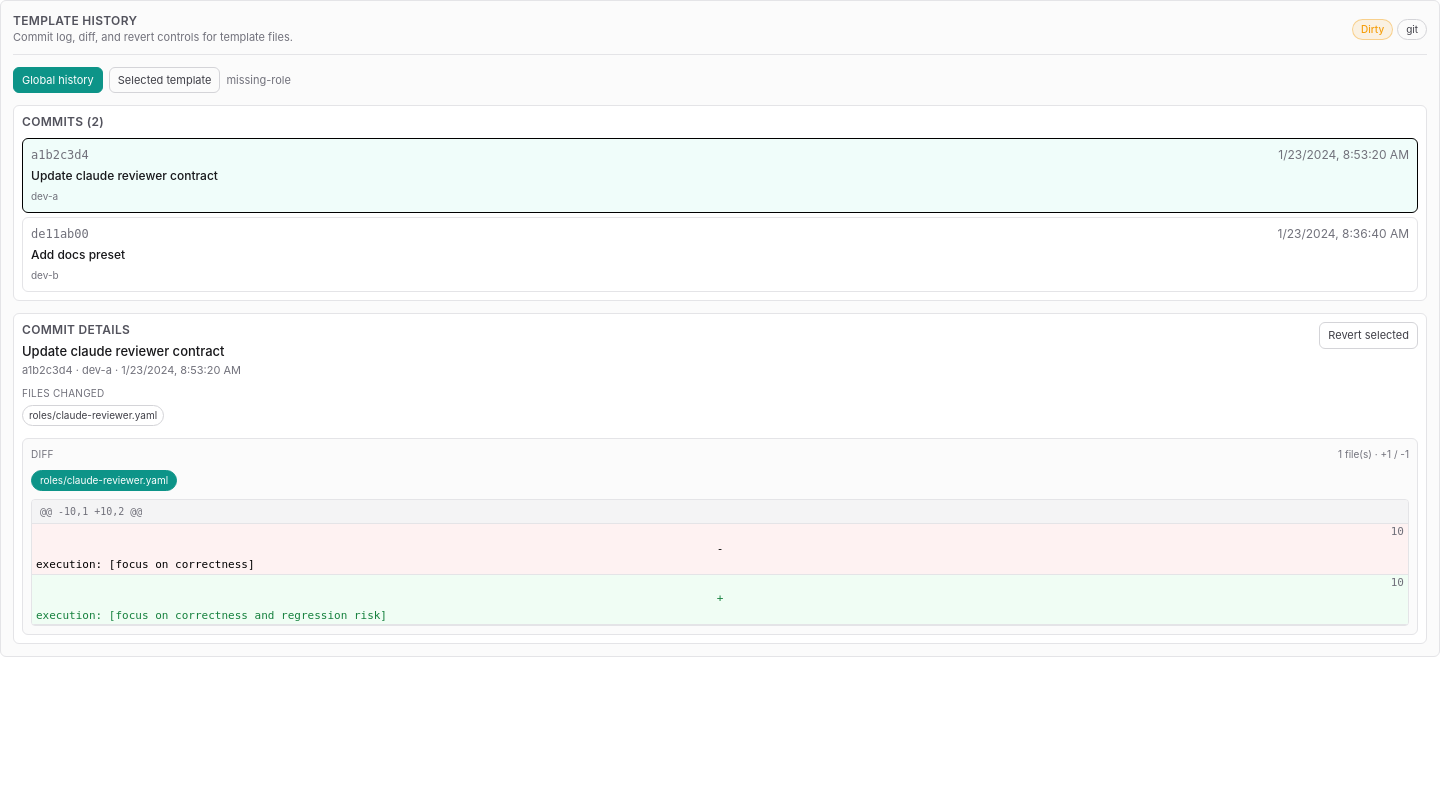
Test: TemplateHistoryPanel › shows template-specific empty state when selected template has no matching commits
Click the button with test id "template-history-scope-template" at (165, 80), box [109,66,220,93]
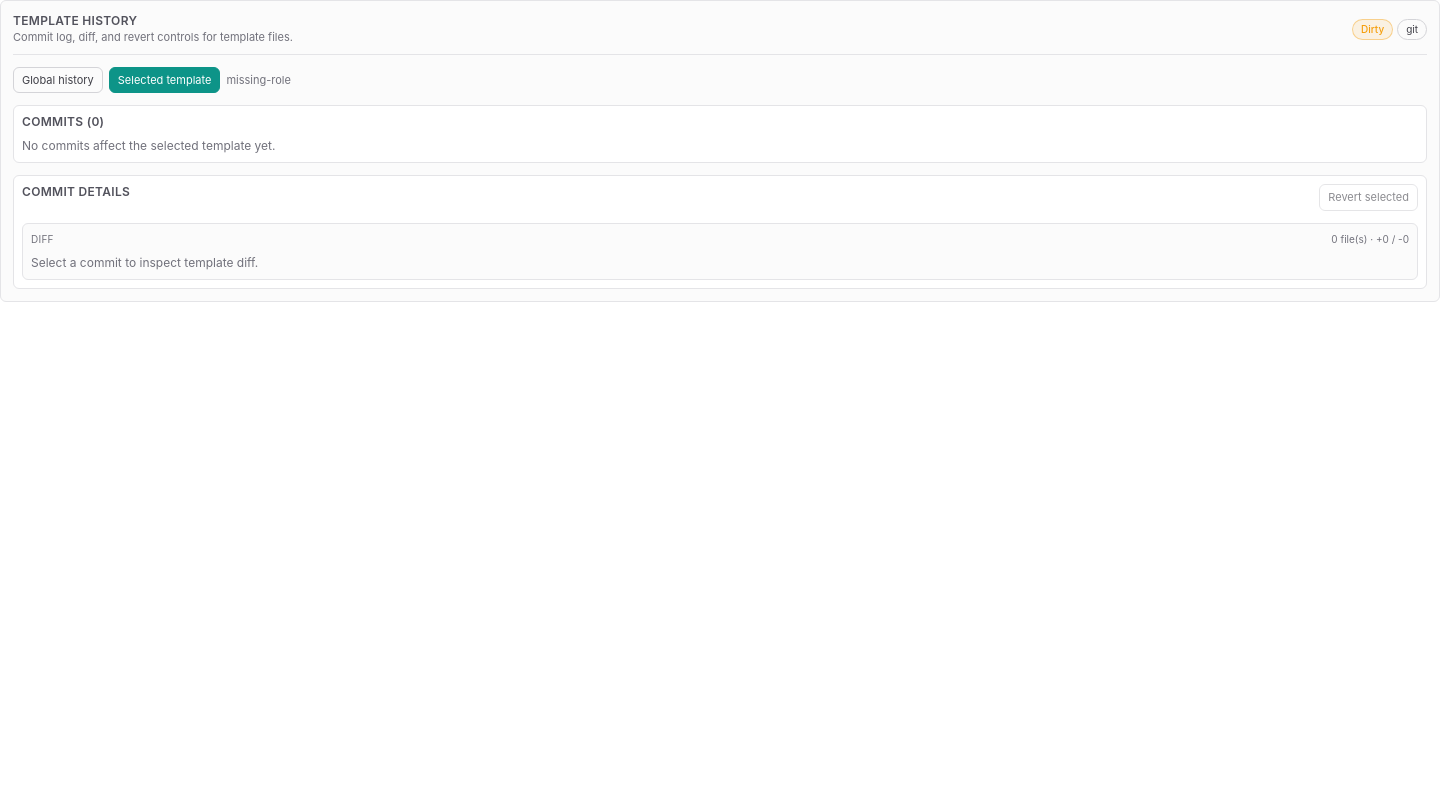
Expected: the text with test id "template-history-empty" reads "No commits affect the selected template yet.", [22,138,276,153]
